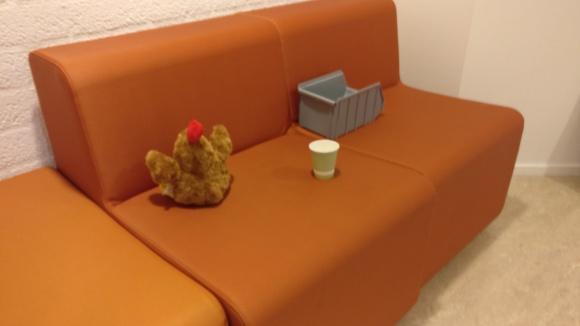chicken: (145, 117, 233, 207)
cup: (308, 138, 340, 181)
tray: (297, 68, 384, 136)
